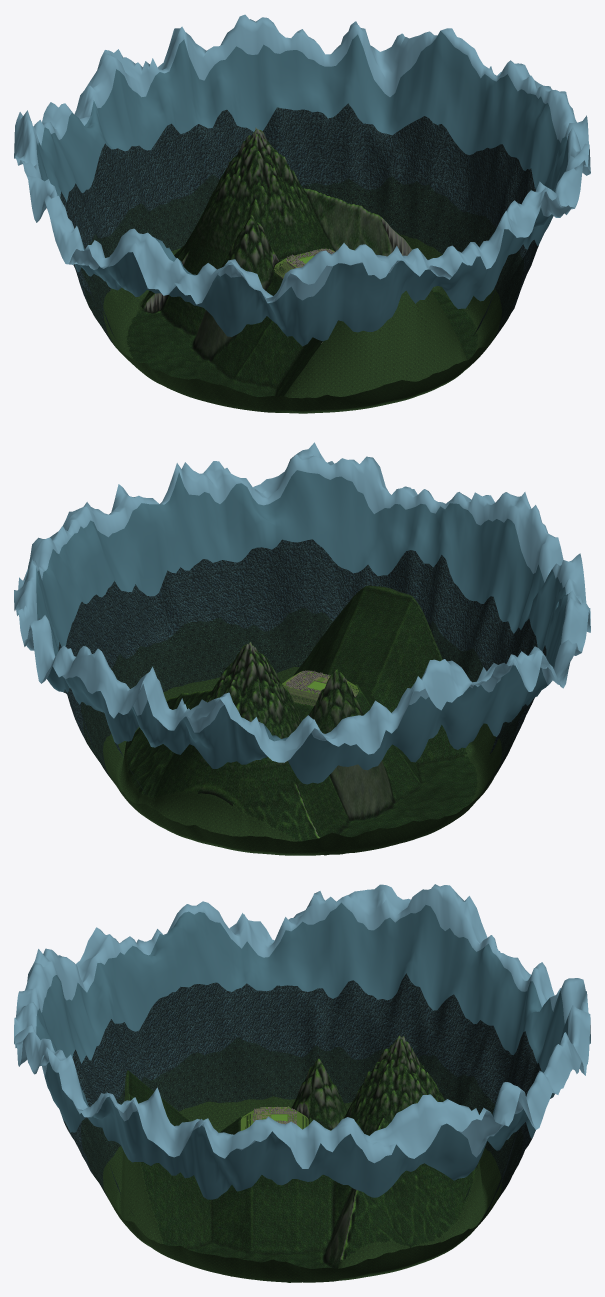
Rendered from machu-picchu.glb.
3 renders of one model, top to bottom at view 1: azimuth 30°, elevation 25°; view 2: azimuth 150°, elevation 25°; view 3: azimuth 270°, elevation 25°, orthographic.
Visible parts, largest first — view 1: MachuPicchu; view 2: MachuPicchu; view 3: MachuPicchu.
Boxes of the visible parts, left/top/right/bottom form: MachuPicchu: left=14, top=14, right=590, bottom=413; MachuPicchu: left=14, top=442, right=590, bottom=855; MachuPicchu: left=14, top=884, right=590, bottom=1282.
Size of the model in its own units: 2500 by 1079 by 2500.
13 materials, 10 textured.
